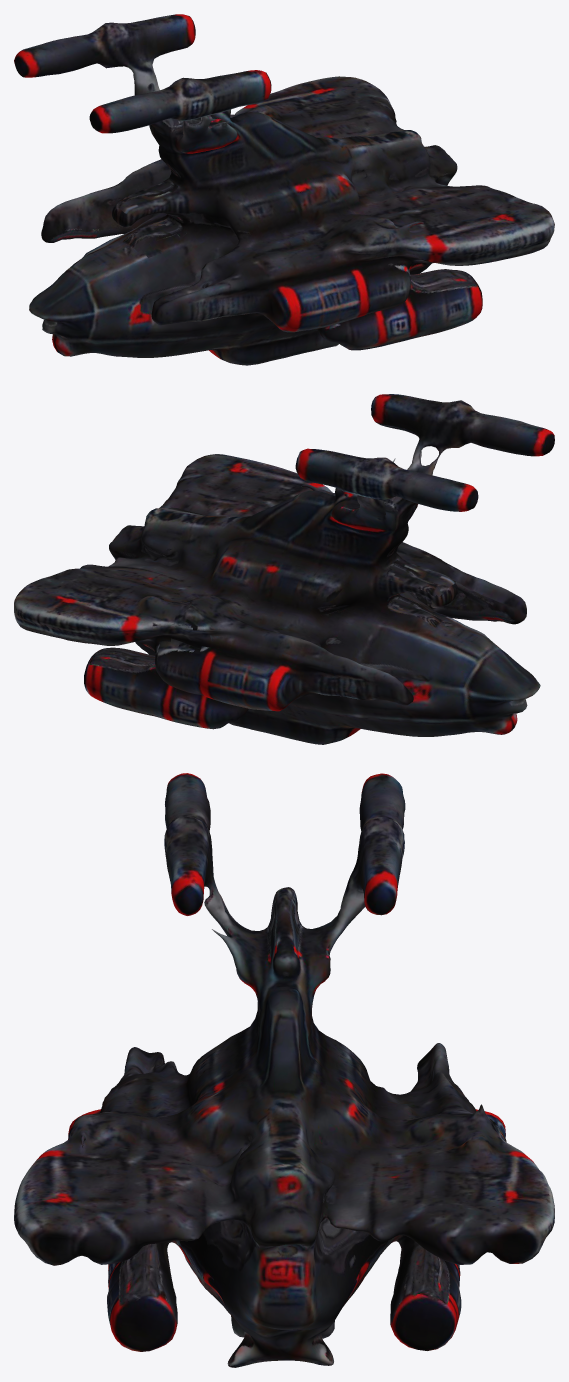
The model's file is 4f8b0d07e790__attack_aircraft___.fbx.
3 renders of one model, top to bottom at view 1: azimuth 30°, elevation 25°; view 2: azimuth 150°, elevation 25°; view 3: azimuth 270°, elevation 25°, orthographic. The views are drawn at different scales.
Visible parts, largest first — view 1: mesh; view 2: mesh; view 3: mesh.
Boxes of the visible parts, bbox=[...] form: mesh: bbox=[14, 14, 554, 365]; mesh: bbox=[14, 394, 554, 744]; mesh: bbox=[14, 773, 554, 1367].
Bounding box in the file's own units: 99.64 × 72.86 × 85.17.
